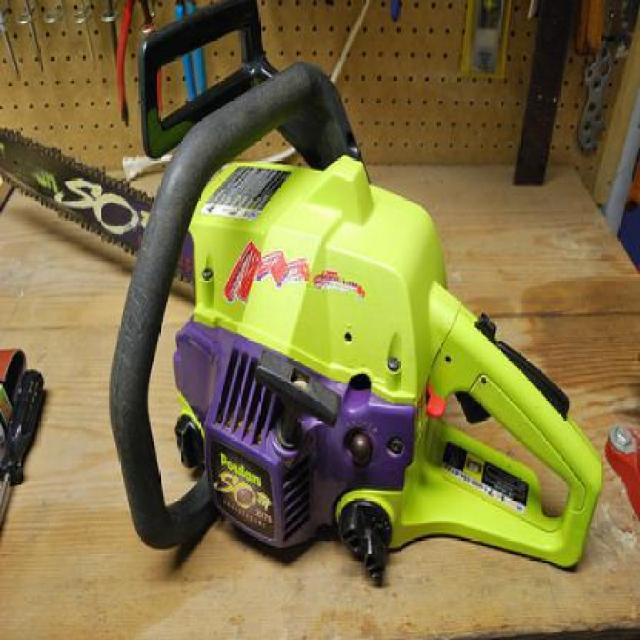Chainsaw: (0, 0, 603, 589)
